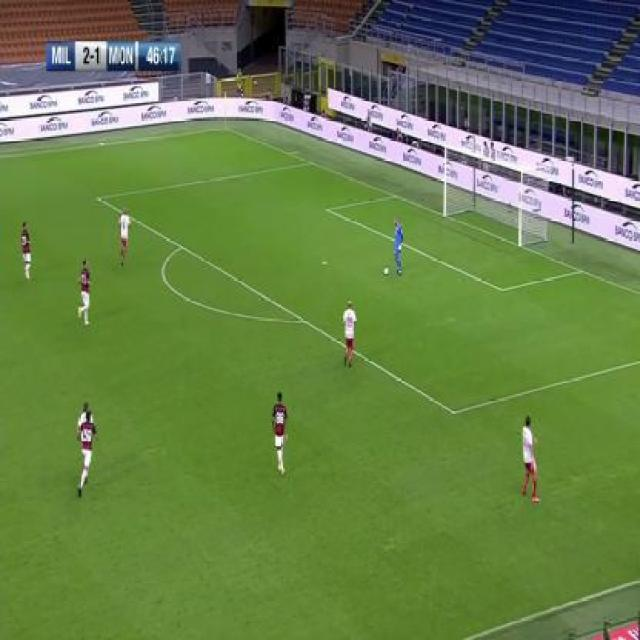ball: (384, 265, 390, 278)
player: (74, 402, 99, 499), (519, 412, 541, 505), (271, 390, 290, 476), (76, 256, 93, 330), (341, 298, 357, 369), (117, 203, 131, 268), (19, 221, 33, 284), (392, 213, 405, 275)
